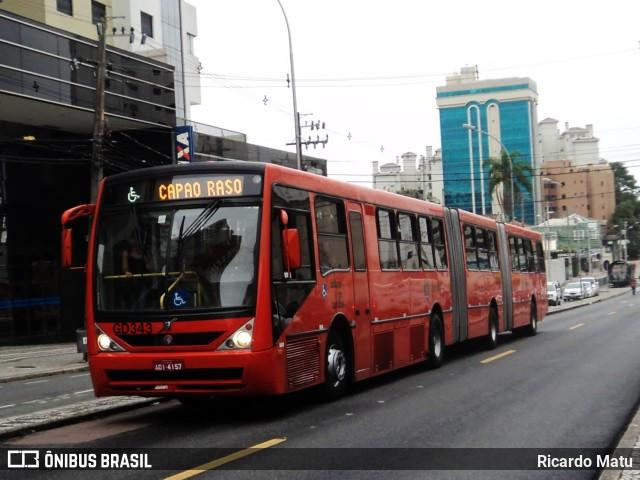CAPAO RASO: (151, 177, 245, 203)
